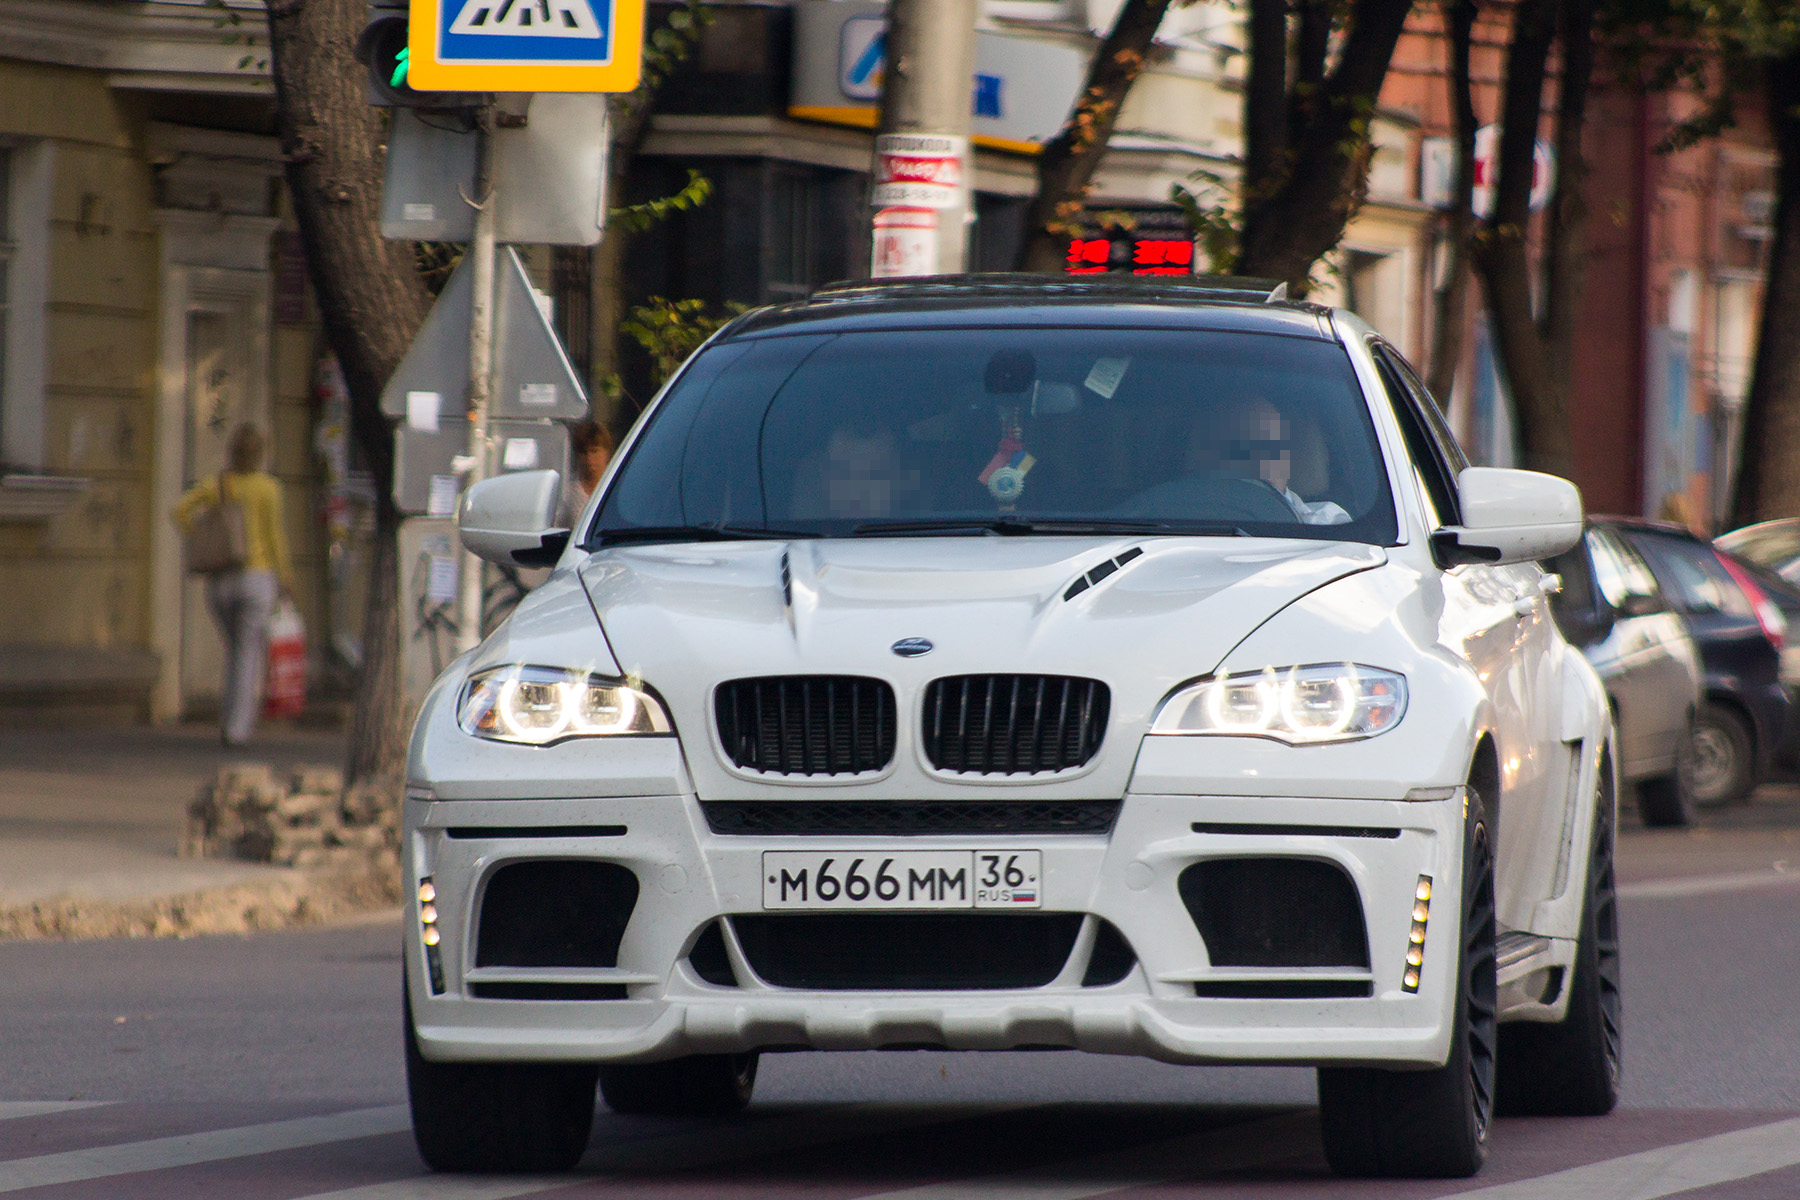number_plate: (754, 846, 1051, 937)
